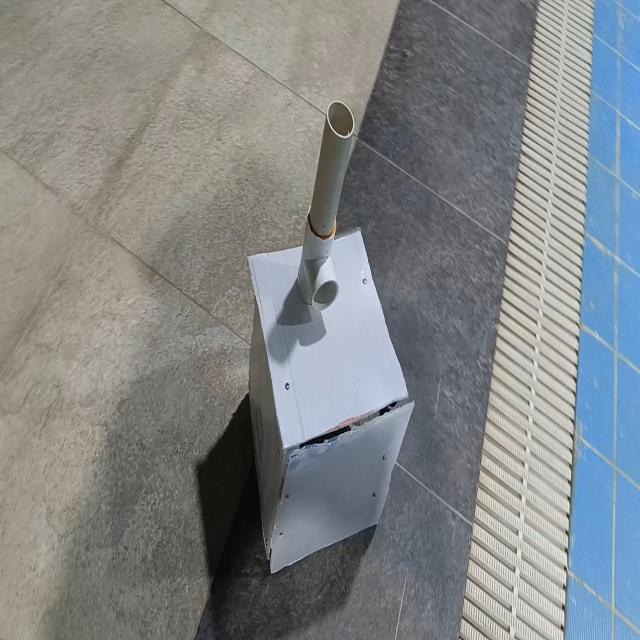Cube: (246, 226, 414, 574)
